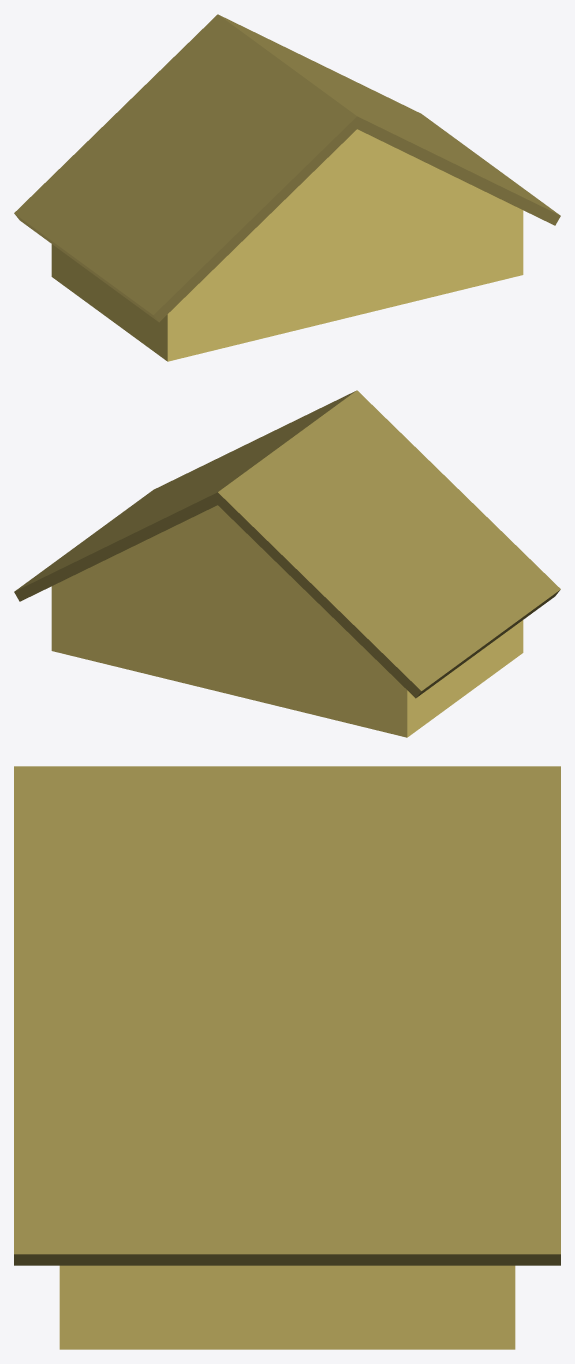
Rendered from result.glb.
3 renders of one model, top to bottom at view 1: azimuth 30°, elevation 25°; view 2: azimuth 150°, elevation 25°; view 3: azimuth 270°, elevation 25°, orthographic. The views are drawn at different scales.
Visible parts, largest first — view 1: 9fee56e9-1583-4f36-8ce5-04102c534424__undefined (×2), c0297257-a4b7-4345-9f17-856b4440ec3c__undefined; view 2: 9fee56e9-1583-4f36-8ce5-04102c534424__undefined (×2), c0297257-a4b7-4345-9f17-856b4440ec3c__undefined; view 3: 9fee56e9-1583-4f36-8ce5-04102c534424__undefined, c0297257-a4b7-4345-9f17-856b4440ec3c__undefined.
Boxes of the visible parts, x1,y1,x2,y2 form: 9fee56e9-1583-4f36-8ce5-04102c534424__undefined (×2): (14,14,560,322); c0297257-a4b7-4345-9f17-856b4440ec3c__undefined: (51,129,523,361); 9fee56e9-1583-4f36-8ce5-04102c534424__undefined (×2): (14,390,560,698); c0297257-a4b7-4345-9f17-856b4440ec3c__undefined: (51,505,523,737); 9fee56e9-1583-4f36-8ce5-04102c534424__undefined: (14,766,560,1265); c0297257-a4b7-4345-9f17-856b4440ec3c__undefined: (59,1265,515,1349).
Bounding box in the file's own units: 1013 × 500 × 600.
